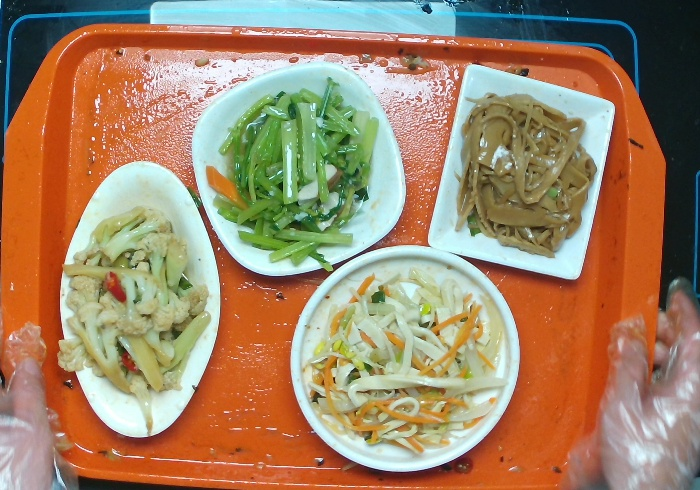HZYJPL-Si_Fang_Die: (424, 59, 619, 287)
HZYJPL-Si_Fang_Yuan_Die: (183, 57, 412, 283)
HZYJPL-Xiao_Yu_Die: (51, 159, 225, 441)
HZYJPL-Xiao_Yuan_Die: (283, 238, 523, 478)
